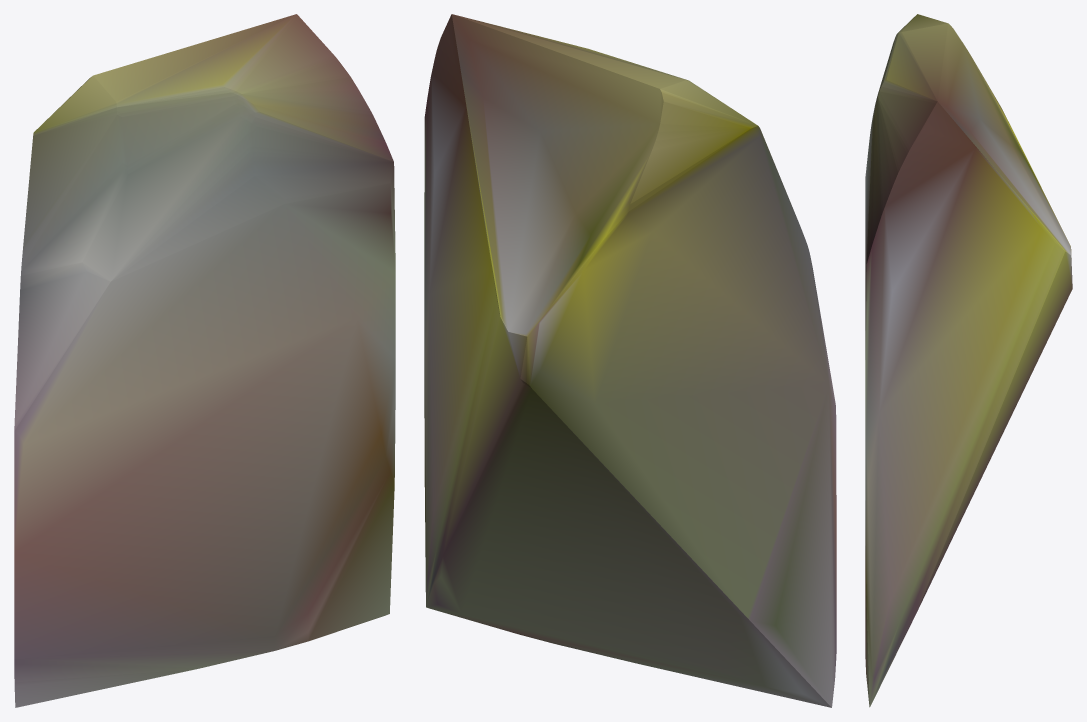
Rendered from room_3d.glb.
The picture shows the model from 3 angles, left to right: view 1: azimuth 30°, elevation 25°; view 2: azimuth 150°, elevation 25°; view 3: azimuth 270°, elevation 25°; orthographic projection. The views are drawn at different scales.
Parts seen in each view (by area): view 1: world; view 2: world; view 3: world.
Part boxes in pixels (box(x1,y1,x2,y2)): world: box(14, 14, 395, 707); world: box(424, 14, 836, 707); world: box(865, 14, 1072, 707).
Bounding box in the file's own units: 19.35 × 28.87 × 9.27.
